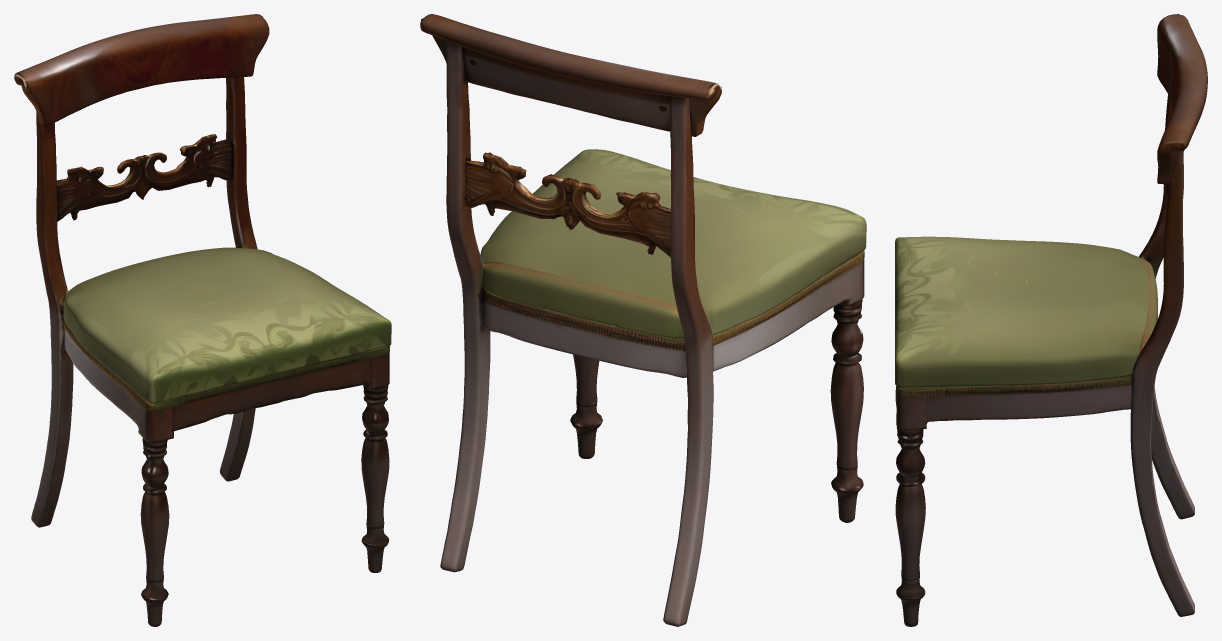
3 views of the same model, side by side, from view 1: azimuth 30°, elevation 25°; view 2: azimuth 150°, elevation 25°; view 3: azimuth 270°, elevation 25° (orthographic). The views are drawn at different scales.
Parts seen in each view (by area): view 1: root.0, root.2, root.1, root.3, root.5, root.4, root.6, root.7; view 2: root.0, root.2, root.1, root.3, root.4, root.5, root.6, root.7; view 3: root.0, root.4, root.1, root.2, root.7, root.3.
Part boxes in pixels (left/top/right/bottom): root.0: left=63, top=247, right=391, bottom=403; root.2: left=14, top=14, right=269, bottom=126; root.1: left=63, top=318, right=390, bottom=442; root.3: left=31, top=112, right=73, bottom=527; root.5: left=57, top=134, right=231, bottom=221; root.4: left=220, top=77, right=257, bottom=481; root.6: left=140, top=438, right=169, bottom=626; root.7: left=361, top=385, right=389, bottom=572; root.0: left=480, top=149, right=866, bottom=338; root.2: left=420, top=14, right=721, bottom=136; root.1: left=483, top=250, right=864, bottom=377; root.3: left=663, top=96, right=713, bottom=626; root.4: left=440, top=41, right=490, bottom=572; root.5: left=465, top=152, right=670, bottom=257; root.6: left=830, top=299, right=863, bottom=522; root.7: left=570, top=354, right=602, bottom=458; root.0: left=895, top=236, right=1157, bottom=387; root.4: left=1130, top=150, right=1194, bottom=616; root.1: left=896, top=375, right=1132, bottom=430; root.2: left=1157, top=14, right=1207, bottom=184; root.7: left=895, top=426, right=925, bottom=626; root.3: left=1139, top=94, right=1194, bottom=519.
Size of the model in its own units: 0.4705 by 0.845 by 0.4831.
Materials: 8 (8 with a texture image).
